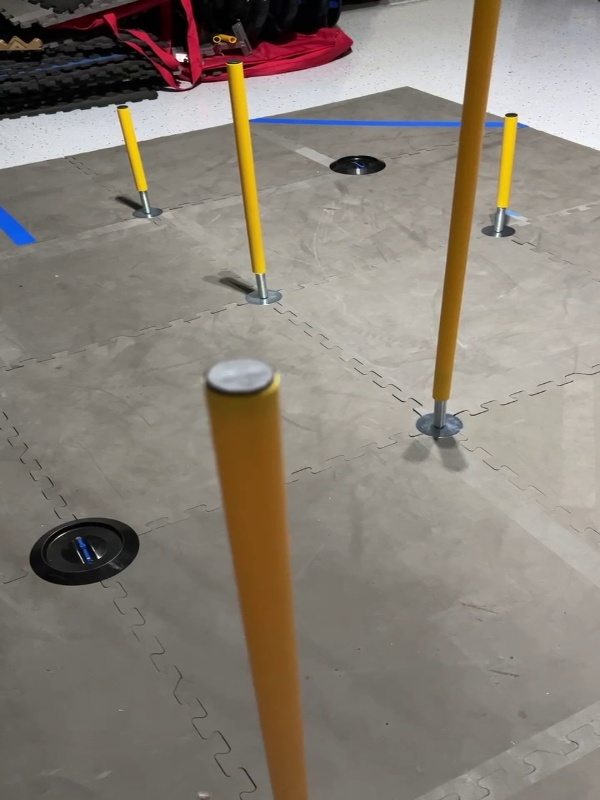top: (193, 353, 283, 403)
